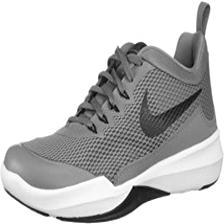Ladder: (65, 15, 177, 208)
